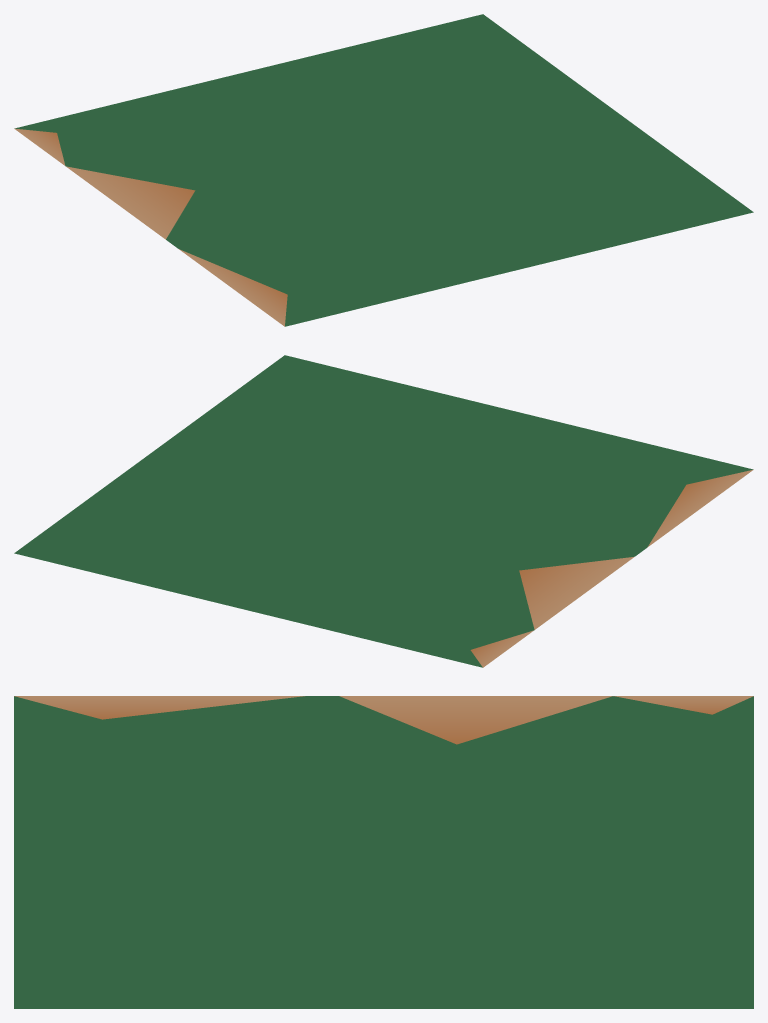
File: ground-edge.fbx
3 renders of one model, top to bottom at view 1: azimuth 30°, elevation 25°; view 2: azimuth 150°, elevation 25°; view 3: azimuth 270°, elevation 25°, orthographic. The views are drawn at different scales.
Visible parts, largest first — view 1: edge_ground_grass; view 2: edge_ground_grass; view 3: edge_ground_grass.
Boxes of the visible parts, <box> form: edge_ground_grass: <box>14,14,753,326</box>; edge_ground_grass: <box>14,355,753,667</box>; edge_ground_grass: <box>14,696,753,1008</box>.
Bounding box in the file's own units: 100 × 1.63e-05 × 100.
